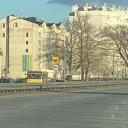speed_limit_100: (48, 62, 62, 72)
